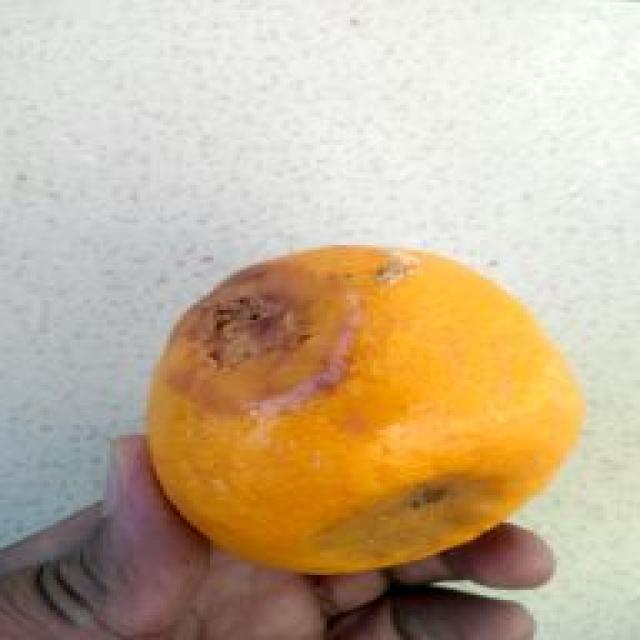Bad_Orange: (150, 246, 583, 573)
